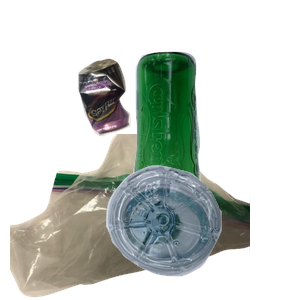glass: (129, 49, 300, 229)
metal: (75, 56, 198, 185)
plastic: (104, 163, 300, 300)
trash: (10, 134, 250, 300)
